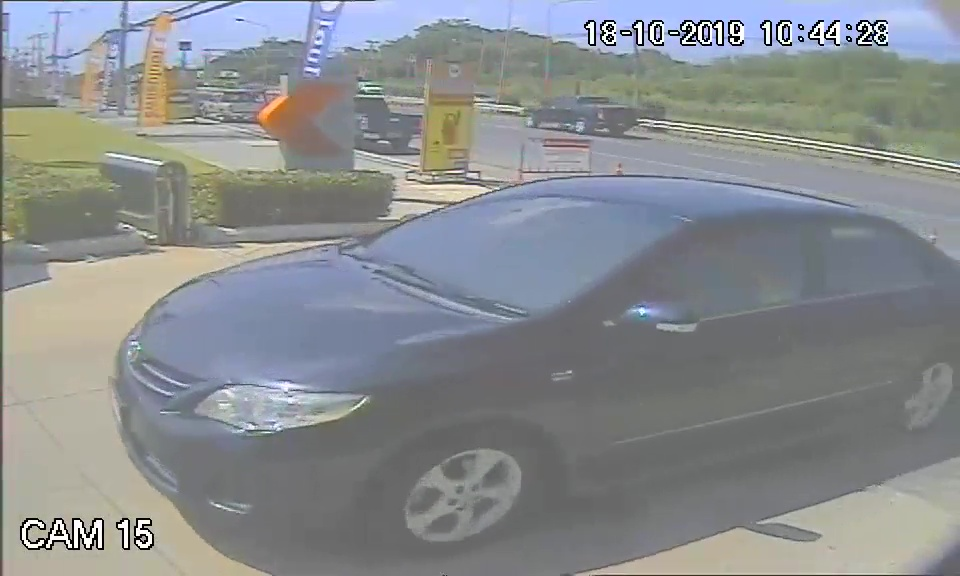sedan: (102, 173, 954, 527)
